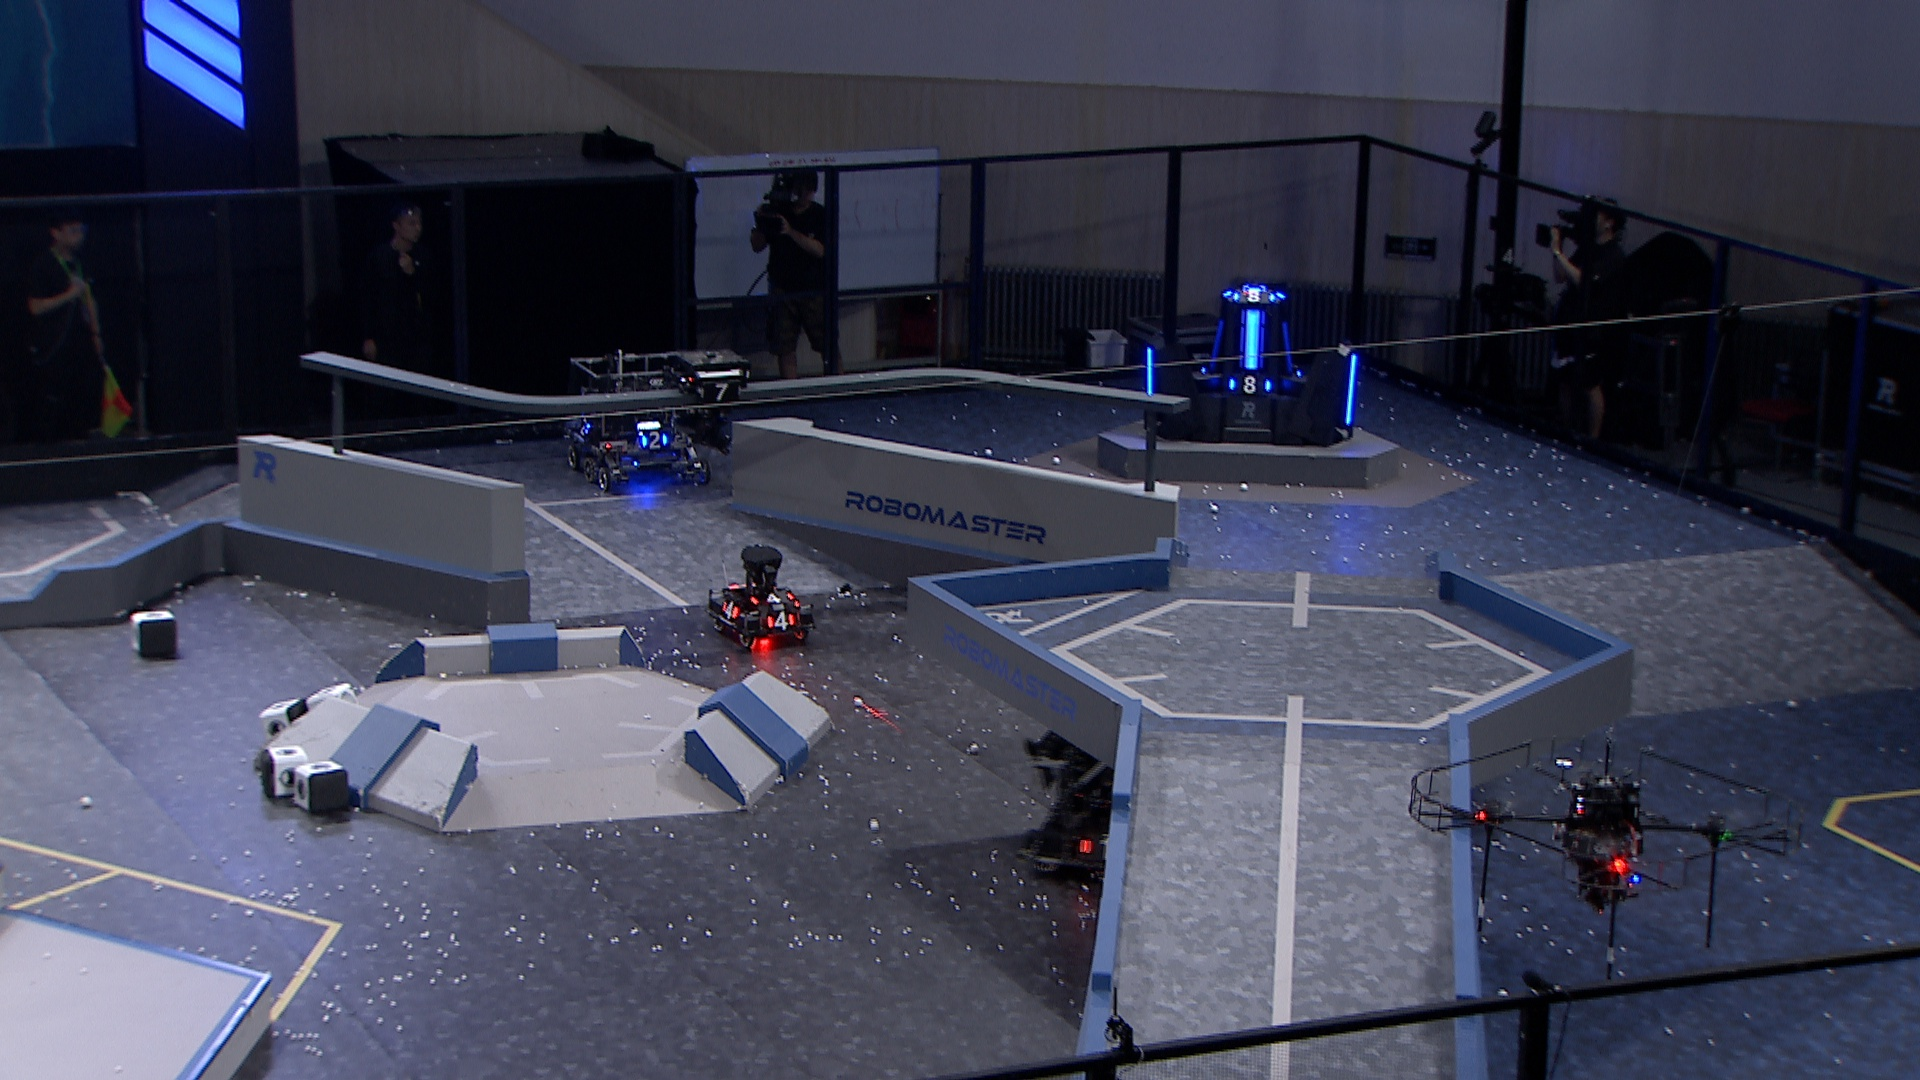armor: (1242, 309, 1265, 372), (1207, 318, 1229, 373), (1342, 352, 1358, 429), (1230, 287, 1280, 309), (1226, 375, 1276, 396), (1280, 318, 1298, 377), (698, 382, 741, 405), (746, 591, 793, 608), (764, 611, 796, 633), (638, 431, 670, 451), (1145, 345, 1156, 396), (717, 599, 741, 622), (574, 417, 593, 438)
base: (1139, 284, 1364, 450)
car: (1017, 713, 1197, 887), (560, 349, 713, 495), (702, 545, 822, 650)
watcher: (666, 347, 749, 458)
